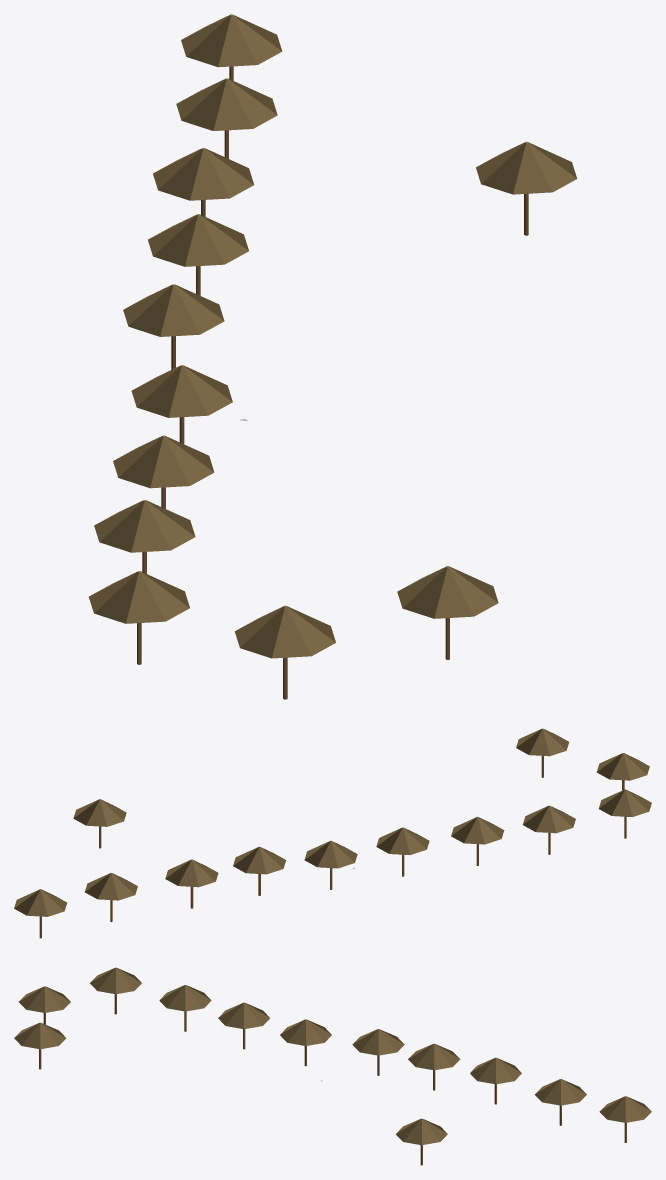
Rendered from palapa_m25_m8.glb.
The picture shows the model from 3 angles, top to bottom: view 1: azimuth 30°, elevation 25°; view 2: azimuth 150°, elevation 25°; view 3: azimuth 270°, elevation 25°; orthographic projection. The views are drawn at different scales.
Visible parts, largest first — view 1: palapa_m25_m8_lod0; view 2: palapa_m25_m8_lod0; view 3: palapa_m25_m8_lod0.
Part boxes in pixels (bbox=[...]): palapa_m25_m8_lod0: bbox=[89, 14, 577, 699]; palapa_m25_m8_lod0: bbox=[14, 728, 651, 938]; palapa_m25_m8_lod0: bbox=[14, 967, 651, 1165].
Size of what is drawn, in the model's own units: 29.3 by 4.66 by 41.3.
